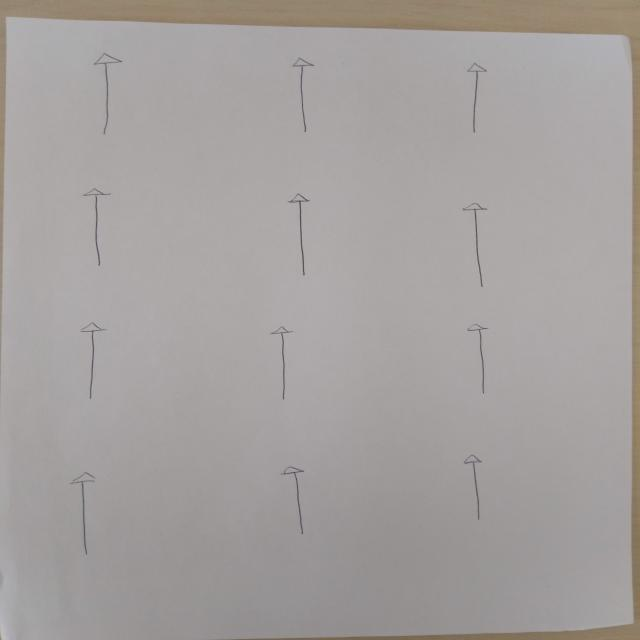arrow_line_up: (61, 469, 106, 559), (71, 185, 117, 269), (264, 324, 309, 409), (280, 188, 323, 276), (460, 322, 507, 401), (456, 196, 495, 290), (89, 51, 126, 136), (288, 52, 322, 144), (280, 462, 317, 537), (83, 320, 110, 402), (464, 453, 494, 520), (466, 62, 490, 132)
